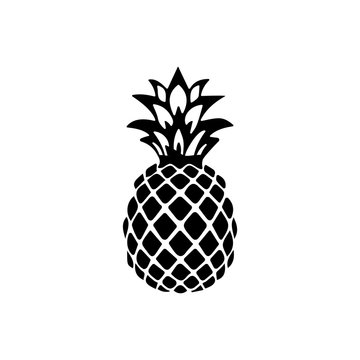Pineapple: (123, 66, 240, 294)
